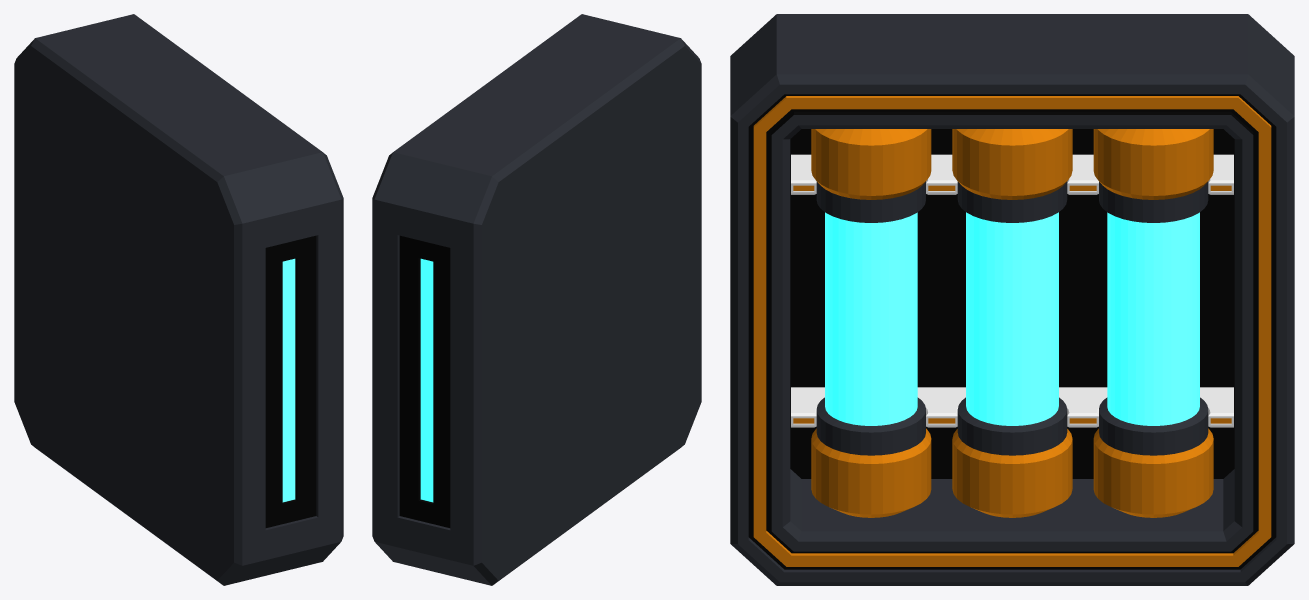
Rendered from SM_Fuse_Box.fbx.
The picture shows the model from 3 angles, left to right: view 1: azimuth 30°, elevation 25°; view 2: azimuth 150°, elevation 25°; view 3: azimuth 270°, elevation 25°; orthographic projection. The views are drawn at different scales.
Parts seen in each view (by area): view 1: SM_Fuse_Box_Base; view 2: SM_Fuse_Box_Base; view 3: SM_Fuse_Box_Base, SM_Fuse_Box_Fuse.001, SM_Fuse_Box_Fuse, SM_Fuse_Box_Fuse.002.
Part boxes in pixels (<box>): SM_Fuse_Box_Base: <box>14,14,343,585</box>; SM_Fuse_Box_Base: <box>372,14,701,585</box>; SM_Fuse_Box_Base: <box>730,14,1294,585</box>; SM_Fuse_Box_Fuse.001: <box>952,129,1072,517</box>; SM_Fuse_Box_Fuse: <box>811,129,931,517</box>; SM_Fuse_Box_Fuse.002: <box>1093,129,1213,517</box>.
Bounding box in the file's own units: 22.4 × 80 × 80.
